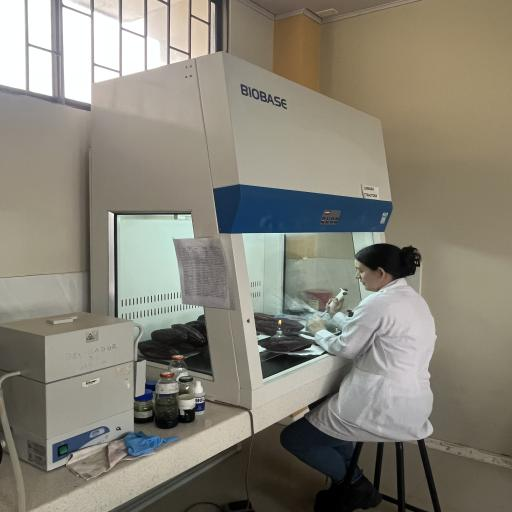Camara_Extractora_Biobase: (72, 47, 411, 448)
